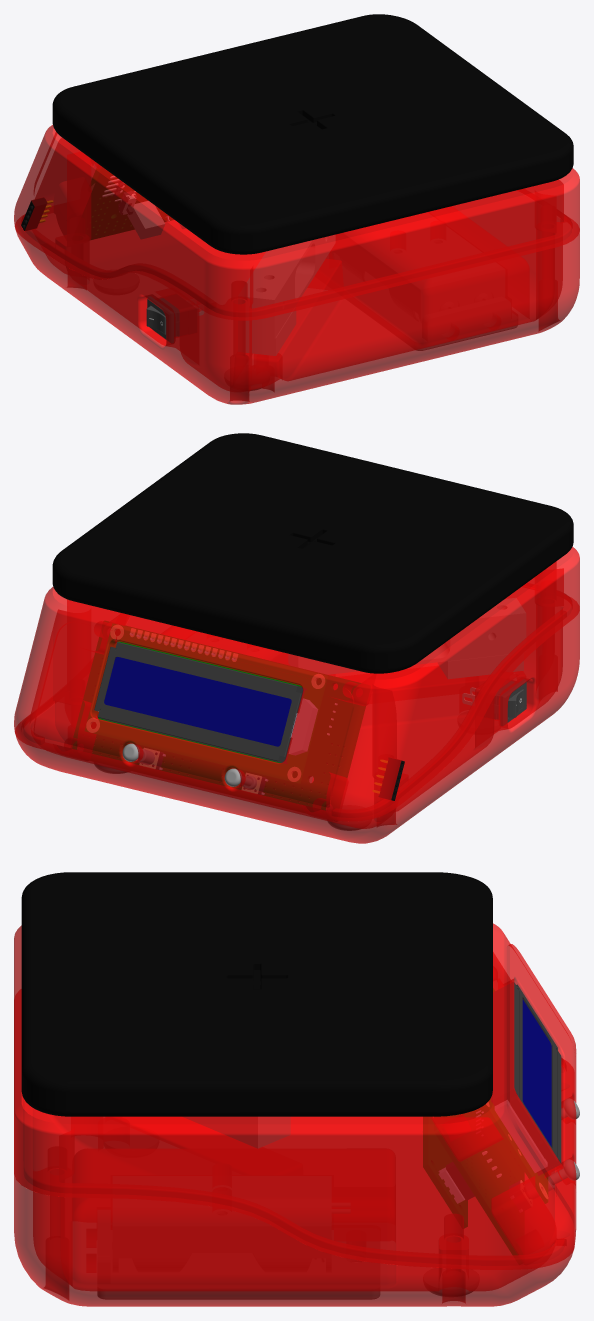
Rendered from FINAL_SCALE.glb.
3 renders of one model, top to bottom at view 1: azimuth 30°, elevation 25°; view 2: azimuth 150°, elevation 25°; view 3: azimuth 270°, elevation 25°, orthographic. The views are drawn at different scales.
Visible parts, largest first — view 1: eBom-FreeParts.step-1, FINAL SCALE_1.step-1/FINAL Bottom Panel.step-1, FINAL SCALE_1.step-1/FINAL Top Panel.step-1, FINAL SCALE_1.step-1/FINAL Load Cell.step-1, FINAL SCALE_1.step-1/PCB.step-1/ScaleInterface_1v3.step-1/Bo, FINAL SCALE_1.step-1/SW-R3-1A-A-1-0.step-1, FINAL SCALE_1.step-1/PCB.step-1/ScaleInterface_1v3.step-1/Ba, FINAL SCALE_1.step-1/FINAL Spacer Block.step-1, FINAL SCALE_1.step-1/Pin Header - Female - 2.54mm.step-1/5er; view 2: eBom-FreeParts.step-1, FINAL SCALE_1.step-1/FINAL Top Panel.step-1, FINAL SCALE_1.step-1/FINAL Bottom Panel.step-1, FINAL SCALE_1.step-1/PCB.step-1/ScaleInterface_1v3.step-1/El, FINAL SCALE_1.step-1/PCB.step-1/ScaleInterface_1v3.step-1/Bo, FINAL SCALE_1.step-1/FINAL Load Cell.step-1, FINAL SCALE_1.step-1/SW-R3-1A-A-1-0.step-1, FINAL SCALE_1.step-1/FINAL Spacer Block.step-1, FINAL SCALE_1.step-1/Pin Header - Female - 2.54mm.step-1/5er; view 3: eBom-FreeParts.step-1, FINAL SCALE_1.step-1/FINAL Bottom Panel.step-1, FINAL SCALE_1.step-1/FINAL Top Panel.step-1, FINAL SCALE_1.step-1/PCB.step-1/ScaleInterface_1v3.step-1/El, FINAL SCALE_1.step-1/PCB.step-1/ScaleInterface_1v3.step-1/Bo, FINAL SCALE_1.step-1/FINAL Battery Panel v1.step-1, FINAL SCALE_1.step-1/FINAL Load Cell.step-1, FINAL SCALE_1.step-1/PCB.step-1/HX711.step-1/HX711.step.step.
Boxes of the visible parts, x1=… form: eBom-FreeParts.step-1: x1=52, y1=14, x2=573, y2=254; FINAL SCALE_1.step-1/FINAL Bottom Panel.step-1: x1=15, y1=191, x2=579, y2=404; FINAL SCALE_1.step-1/FINAL Top Panel.step-1: x1=14, y1=124, x2=579, y2=320; FINAL SCALE_1.step-1/FINAL Load Cell.step-1: x1=246, y1=235, x2=335, y2=338; FINAL SCALE_1.step-1/PCB.step-1/ScaleInterface_1v3.step-1/Bo: x1=91, y1=167, x2=173, y2=239; FINAL SCALE_1.step-1/SW-R3-1A-A-1-0.step-1: x1=146, y1=296, x2=203, y2=342; FINAL SCALE_1.step-1/PCB.step-1/ScaleInterface_1v3.step-1/Ba: x1=127, y1=201, x2=164, y2=238; FINAL SCALE_1.step-1/FINAL Spacer Block.step-1: x1=246, y1=311, x2=295, y2=355; FINAL SCALE_1.step-1/Pin Header - Female - 2.54mm.step-1/5er: x1=21, y1=198, x2=52, y2=230; eBom-FreeParts.step-1: x1=52, y1=433, x2=573, y2=673; FINAL SCALE_1.step-1/FINAL Top Panel.step-1: x1=14, y1=546, x2=579, y2=821; FINAL SCALE_1.step-1/FINAL Bottom Panel.step-1: x1=15, y1=586, x2=579, y2=843; FINAL SCALE_1.step-1/PCB.step-1/ScaleInterface_1v3.step-1/El: x1=85, y1=624, x2=327, y2=783; FINAL SCALE_1.step-1/PCB.step-1/ScaleInterface_1v3.step-1/Bo: x1=72, y1=621, x2=365, y2=809; FINAL SCALE_1.step-1/FINAL Load Cell.step-1: x1=288, y1=598, x2=525, y2=674; FINAL SCALE_1.step-1/SW-R3-1A-A-1-0.step-1: x1=462, y1=679, x2=526, y2=725; FINAL SCALE_1.step-1/FINAL Spacer Block.step-1: x1=438, y1=654, x2=523, y2=678; FINAL SCALE_1.step-1/Pin Header - Female - 2.54mm.step-1/5er: x1=373, y1=758, x2=404, y2=800; eBom-FreeParts.step-1: x1=21, y1=872, x2=492, y2=1116; FINAL SCALE_1.step-1/FINAL Bottom Panel.step-1: x1=14, y1=990, x2=573, y2=1306; FINAL SCALE_1.step-1/FINAL Top Panel.step-1: x1=14, y1=923, x2=576, y2=1269; FINAL SCALE_1.step-1/PCB.step-1/ScaleInterface_1v3.step-1/El: x1=483, y1=982, x2=561, y2=1203; FINAL SCALE_1.step-1/PCB.step-1/ScaleInterface_1v3.step-1/Bo: x1=434, y1=1107, x2=524, y2=1254; FINAL SCALE_1.step-1/FINAL Battery Panel v1.step-1: x1=97, y1=1291, x2=379, y2=1299; FINAL SCALE_1.step-1/FINAL Load Cell.step-1: x1=184, y1=1117, x2=290, y2=1147; FINAL SCALE_1.step-1/PCB.step-1/HX711.step-1/HX711.step.step: x1=423, y1=1117, x2=467, y2=1227.
Size of the model in its own units: 0.1381 by 0.0705 by 0.1494.
